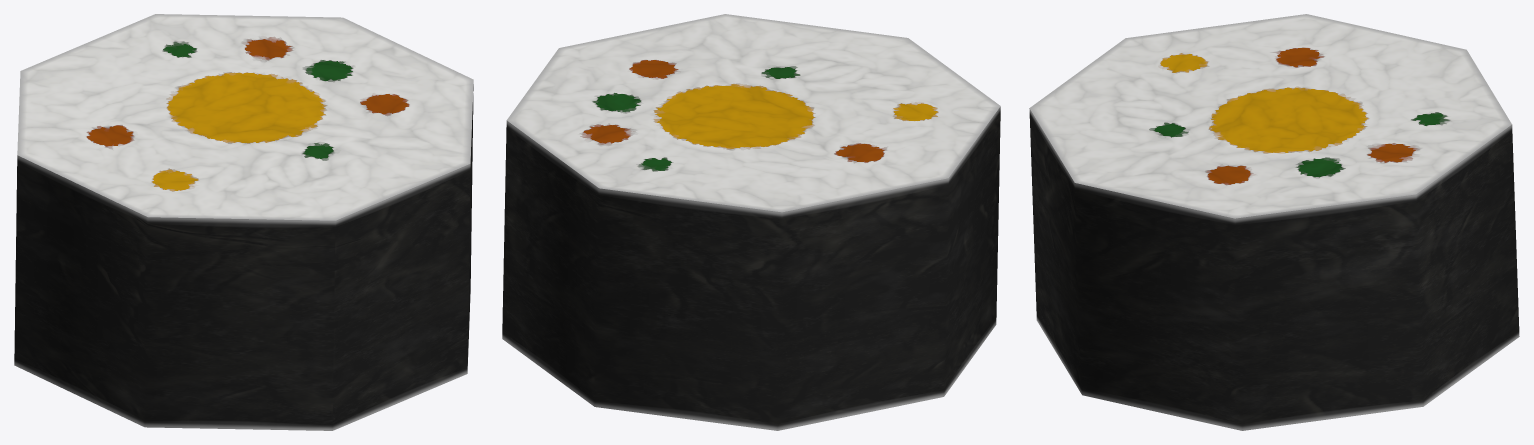
The model's file is gimbob4.fbx.
3 renders of one model, left to right at view 1: azimuth 30°, elevation 25°; view 2: azimuth 150°, elevation 25°; view 3: azimuth 270°, elevation 25°, orthographic.
Visible parts, largest first — view 1: Cylinder.004; view 2: Cylinder.004; view 3: Cylinder.004.
Boxes of the visible parts, x1,y1,x2,y2 form: Cylinder.004: (14,14,473,430); Cylinder.004: (502,14,1000,430); Cylinder.004: (1029,14,1519,430).
Size of the model in its own units: 4.51 by 2.32 by 4.57.
